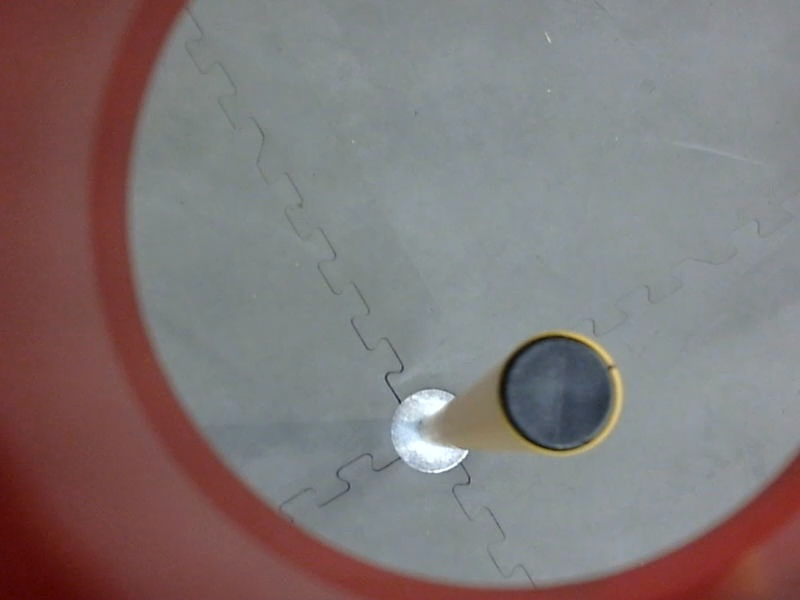tip: (492, 321, 628, 471)
